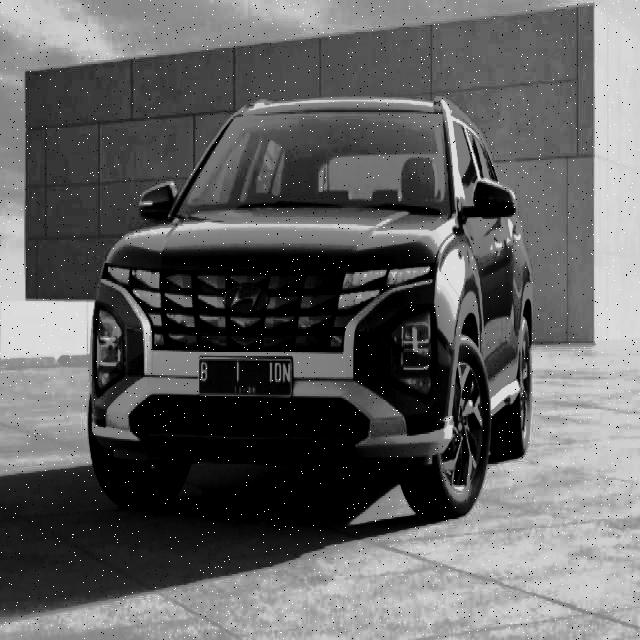Car: (90, 48, 540, 557)
